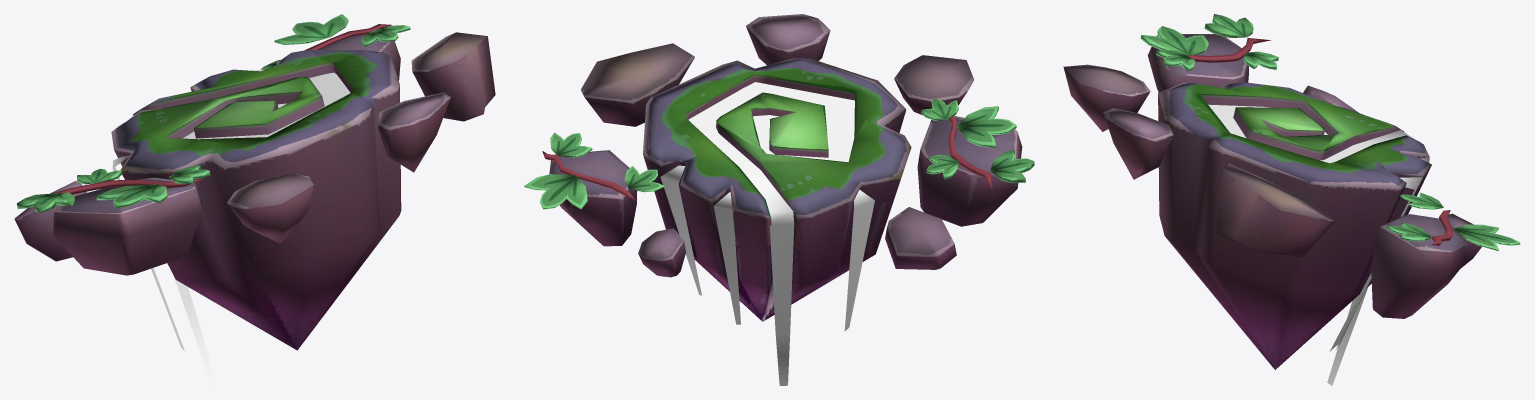
Rendered from InfernalOdysseyStatue.fbx.
The picture shows the model from 3 angles, left to right: view 1: azimuth 30°, elevation 25°; view 2: azimuth 150°, elevation 25°; view 3: azimuth 270°, elevation 25°; orthographic projection. The views are drawn at different scales.
Visible parts, largest first — view 1: InfernalBase; view 2: InfernalBase; view 3: InfernalBase.
Part boxes in pixels (bbox=[...]): InfernalBase: bbox=[14, 14, 495, 385]; InfernalBase: bbox=[524, 14, 1034, 385]; InfernalBase: bbox=[1063, 14, 1520, 385].
Size of the model in its own units: 24.3 by 15.68 by 20.91.
2 materials, 1 textured.
